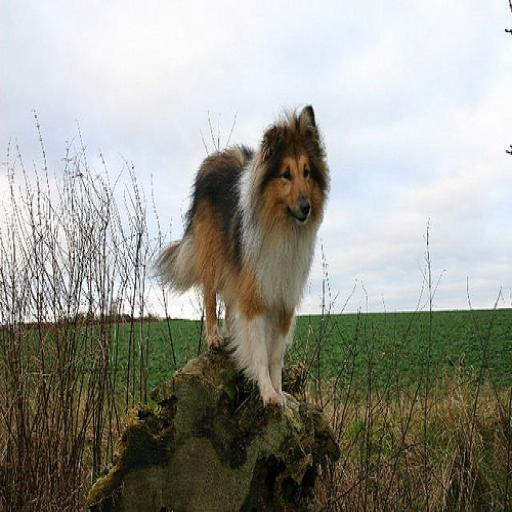dog_face: (256, 106, 326, 230)
